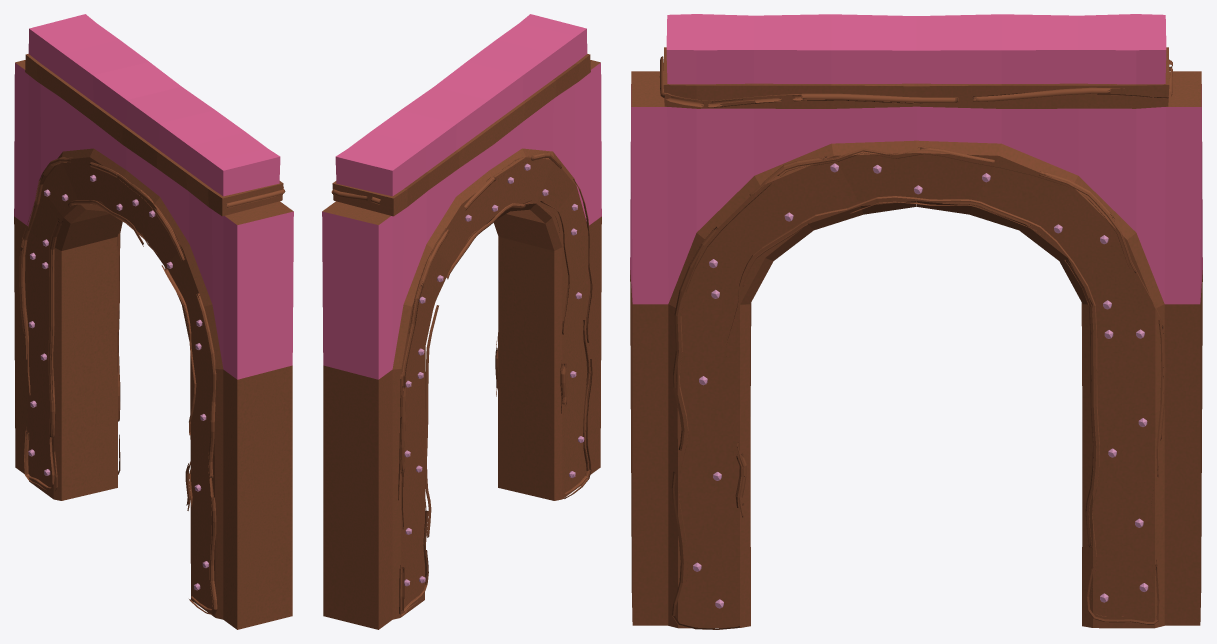
Rendered from Luk.fbx.
3 renders of one model, left to right at view 1: azimuth 30°, elevation 25°; view 2: azimuth 150°, elevation 25°; view 3: azimuth 270°, elevation 25°, orthographic. The views are drawn at different scales.
Visible parts, largest first — view 1: Luk; view 2: Luk; view 3: Luk.
Boxes of the visible parts, x1,y1,x2,y2 form: Luk: (14,14,293,629); Luk: (322,14,601,629); Luk: (630,14,1202,629).
Size of the model in its own units: 286 by 1534 by 1377.
Materials: 3 (1 with a texture image).
